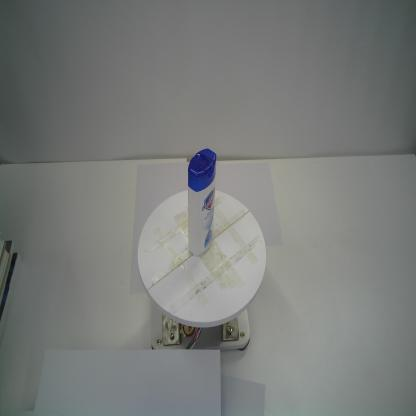Personal Hygiene: (186, 147, 217, 259)
